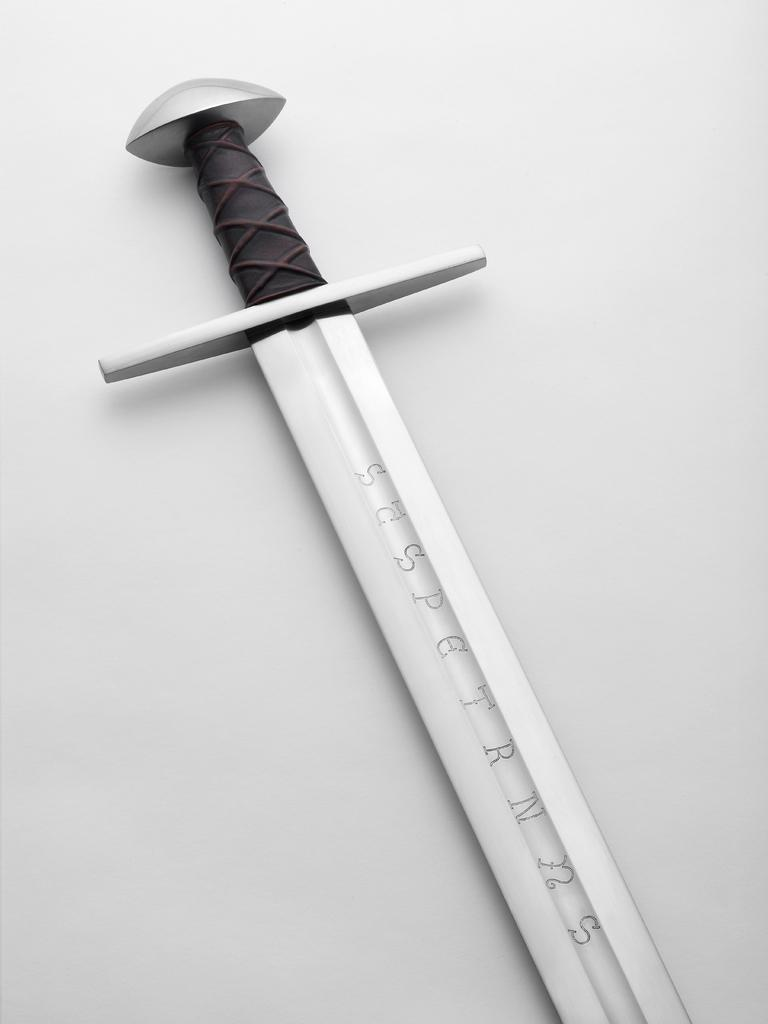Sword: (100, 76, 689, 1023)
